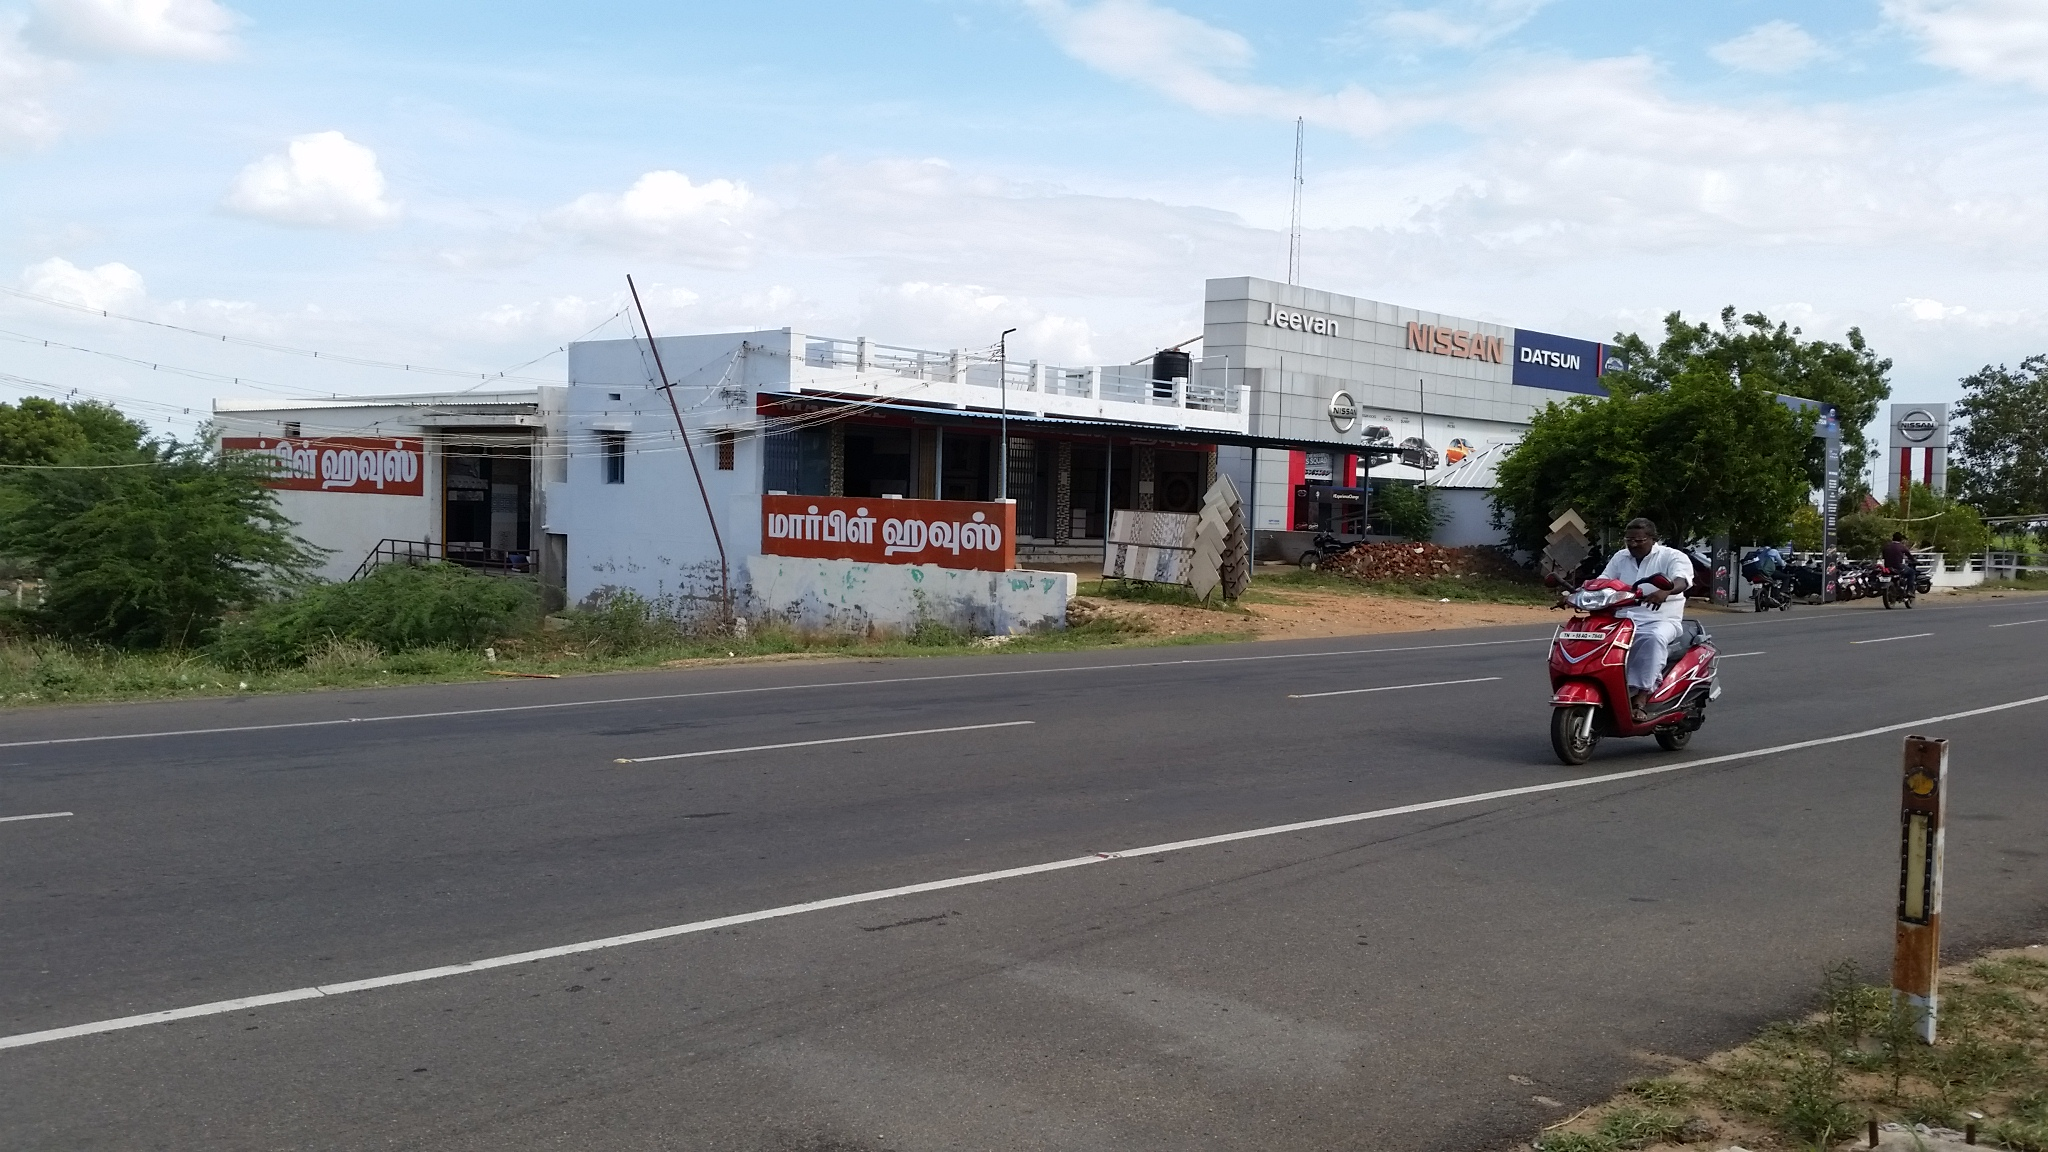biker: (1508, 480, 1750, 788)
nohelmet: (1612, 511, 1669, 569)
